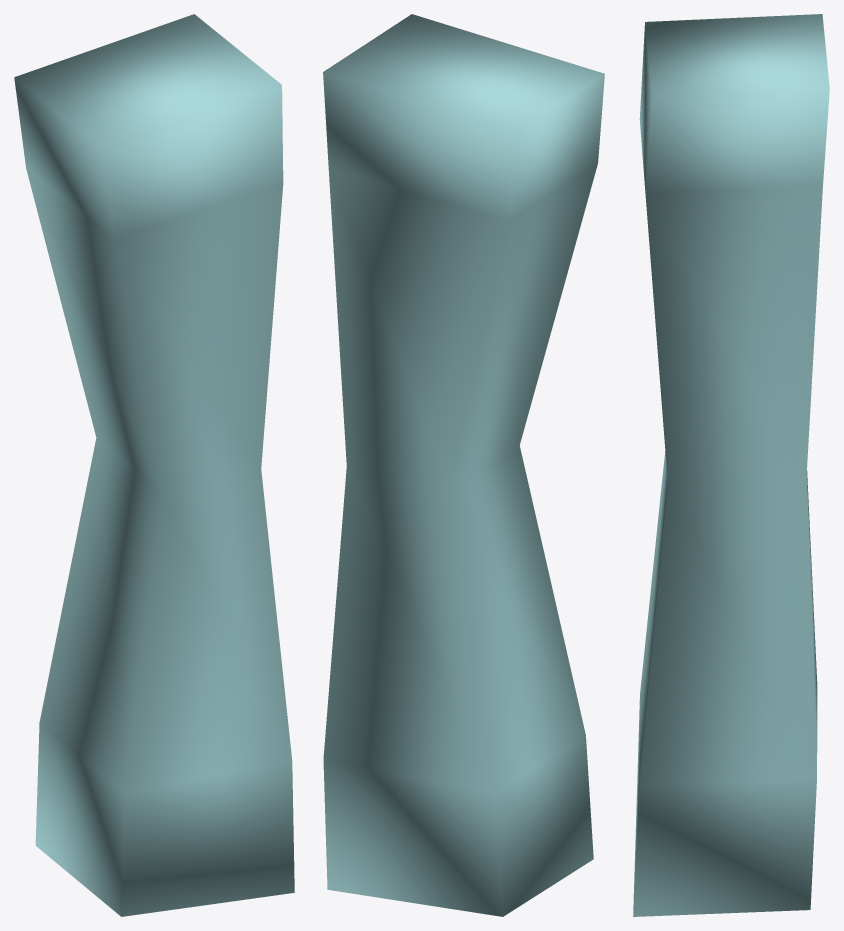
The model's file is Skelly_palm.01.R.fbx.
3 renders of one model, left to right at view 1: azimuth 30°, elevation 25°; view 2: azimuth 150°, elevation 25°; view 3: azimuth 270°, elevation 25°, orthographic. The views are drawn at different scales.
Parts seen in each view (by area): view 1: Skelly_palm.01.R; view 2: Skelly_palm.01.R; view 3: Skelly_palm.01.R.
Boxes of the visible parts, bbox=[...] form: Skelly_palm.01.R: bbox=[14, 14, 294, 916]; Skelly_palm.01.R: bbox=[323, 14, 604, 916]; Skelly_palm.01.R: bbox=[633, 14, 829, 916].
Size of the model in its own units: 2.17 by 8.85 by 1.91.
